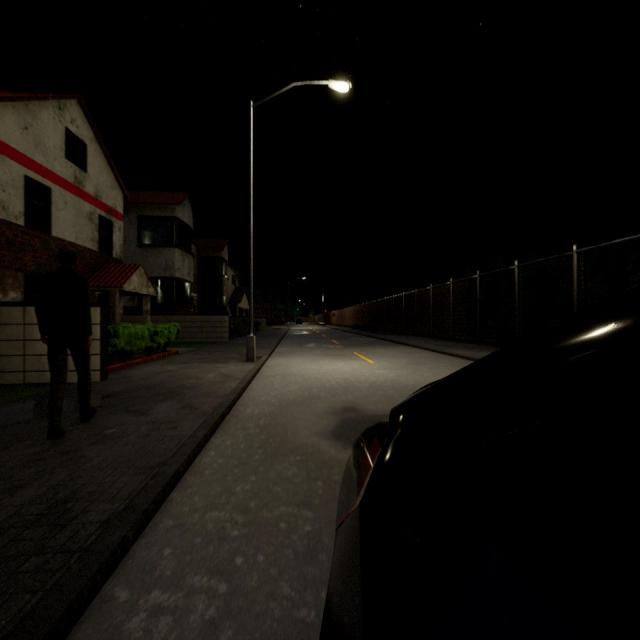Pedestrian: (35, 234, 96, 439)
Vehicle: (321, 301, 640, 638), (296, 318, 302, 326)
traffic_light: (324, 308, 327, 314)
